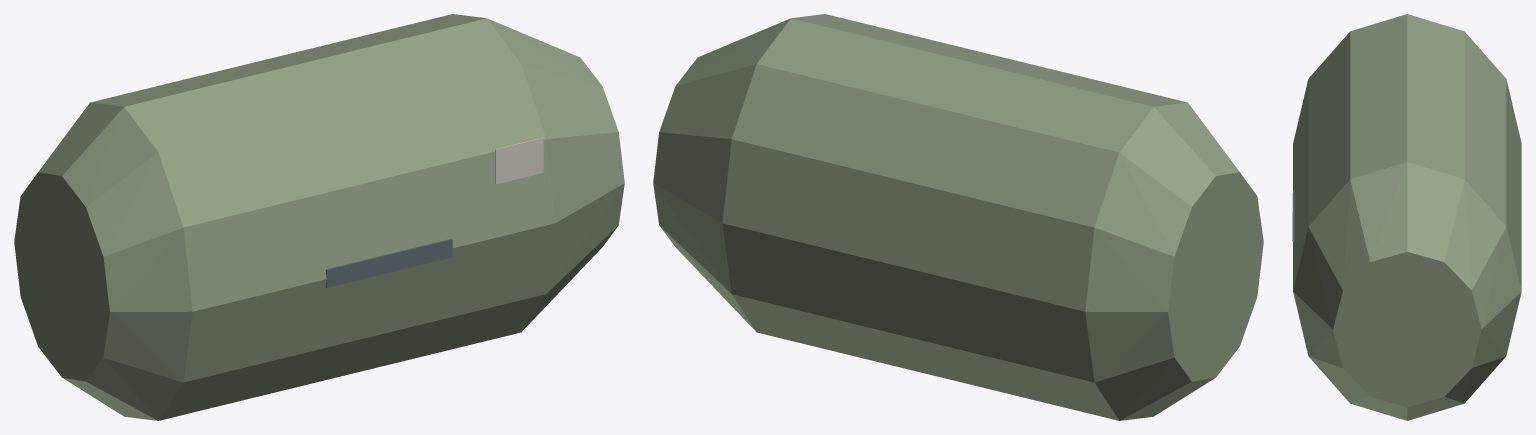
3 views of the same model, side by side, from view 1: azimuth 30°, elevation 25°; view 2: azimuth 150°, elevation 25°; view 3: azimuth 270°, elevation 25° (orthographic). The views are drawn at different scales.
Parts seen in each view (by area): view 1: soft_rigid_proxy, handle, id_tag; view 2: soft_rigid_proxy; view 3: soft_rigid_proxy.
Part boxes in pixels (<box>): soft_rigid_proxy: <box>14,14,624,420</box>; handle: <box>325,238,452,287</box>; id_tag: <box>495,137,543,184</box>; soft_rigid_proxy: <box>653,14,1263,420</box>; soft_rigid_proxy: <box>1293,14,1521,420</box>.
Bounding box in the file's own units: 0.7 × 0.4 × 0.3211.
